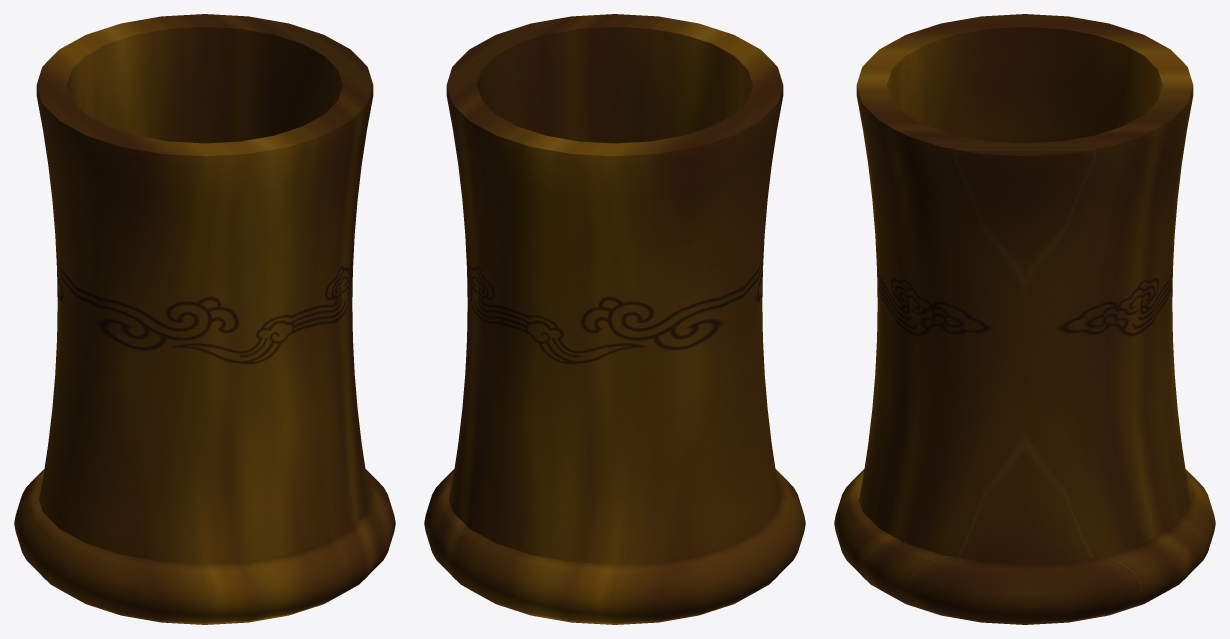
Rendered from paintbrush.FBX.
The picture shows the model from 3 angles, left to right: view 1: azimuth 30°, elevation 25°; view 2: azimuth 150°, elevation 25°; view 3: azimuth 270°, elevation 25°; orthographic projection.
Size of the model in its own units: 1.94 by 2.62 by 1.94.
